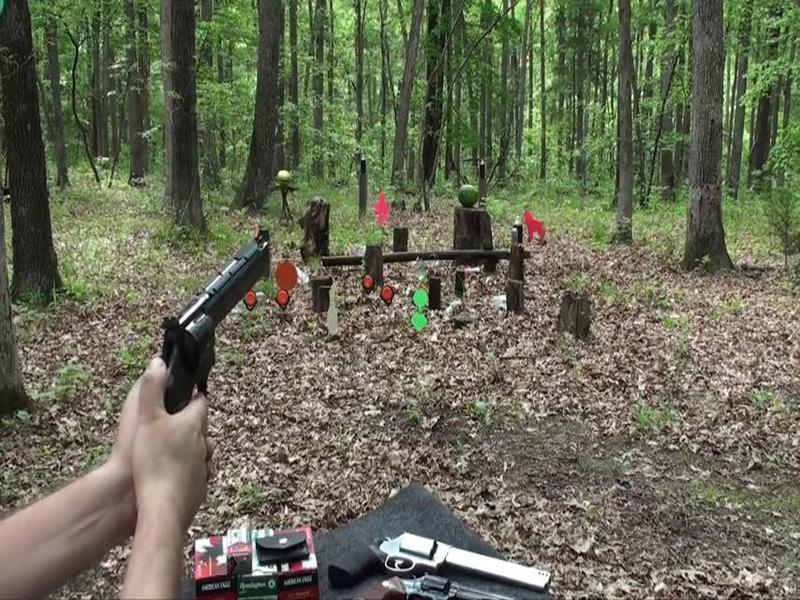Revolver: (140, 218, 298, 431)
